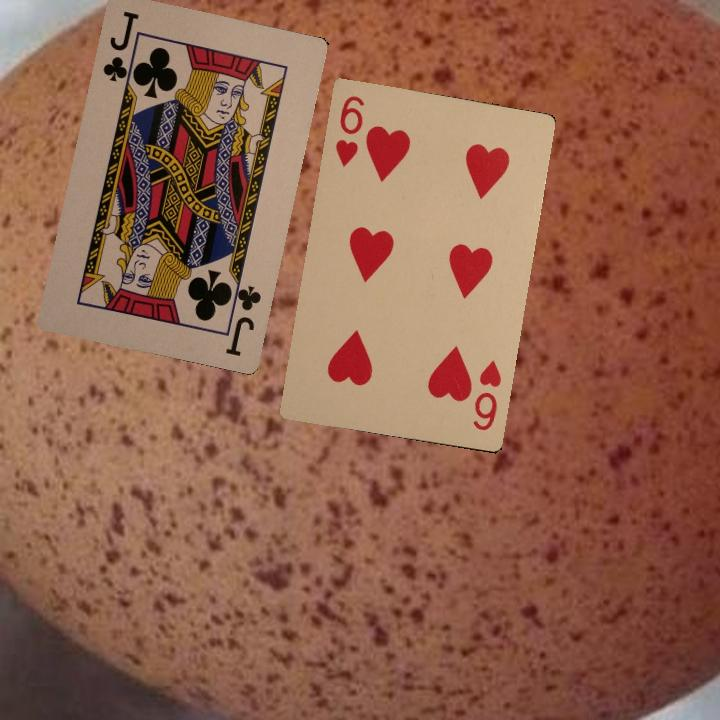6h: (331, 91, 367, 169), (468, 358, 504, 434)
Jc: (99, 7, 144, 90), (220, 276, 264, 359)
